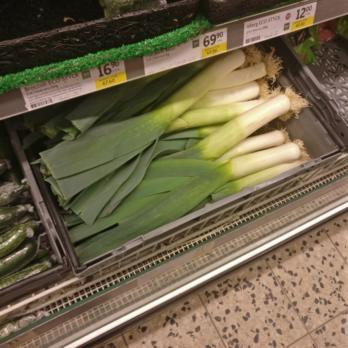Leek Leaves: (40, 107, 236, 200), (189, 56, 306, 164)
